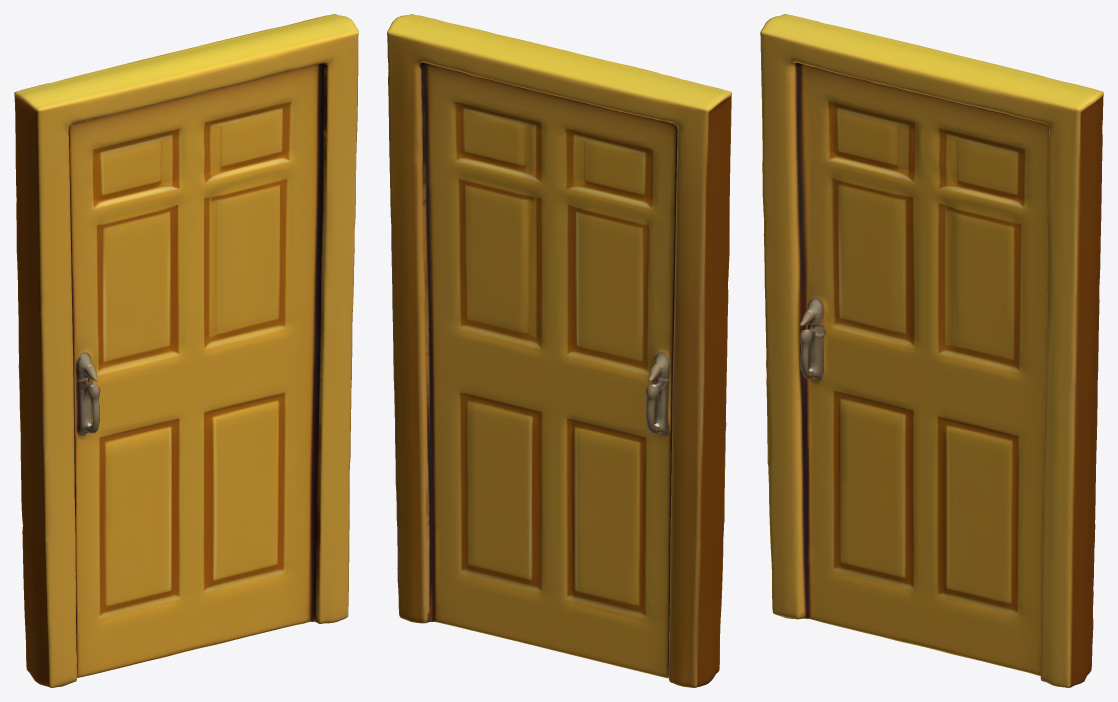
Rendered from porta.glb.
3 renders of one model, left to right at view 1: azimuth 30°, elevation 25°; view 2: azimuth 150°, elevation 25°; view 3: azimuth 330°, elevation 25°, orthographic.
Parts seen in each view (by area): view 1: model; view 2: model; view 3: model.
Part boxes in pixels (left/top/right/bottom): model: left=14, top=14, right=358, bottom=687; model: left=387, top=14, right=731, bottom=687; model: left=760, top=14, right=1103, bottom=687.
Size of the model in its own units: 1.1 by 1.9 by 0.2455.
1 material, 1 textured.
